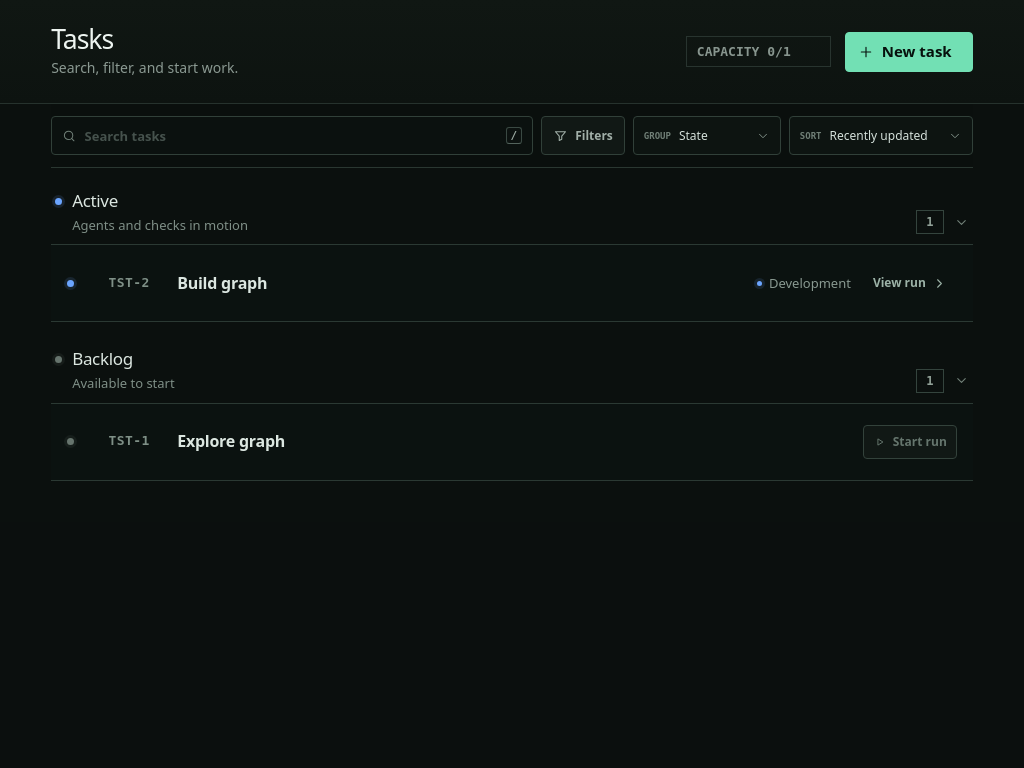
Test case: WorkBoard › starts as one open task list grouped by operational state
Expected: the heading "Tasks" is shown, x1=51 y1=21 x2=113 y2=57
Step 1. Click the button "Filters" → click(583, 136), box x1=541 y1=116 x2=625 y2=155
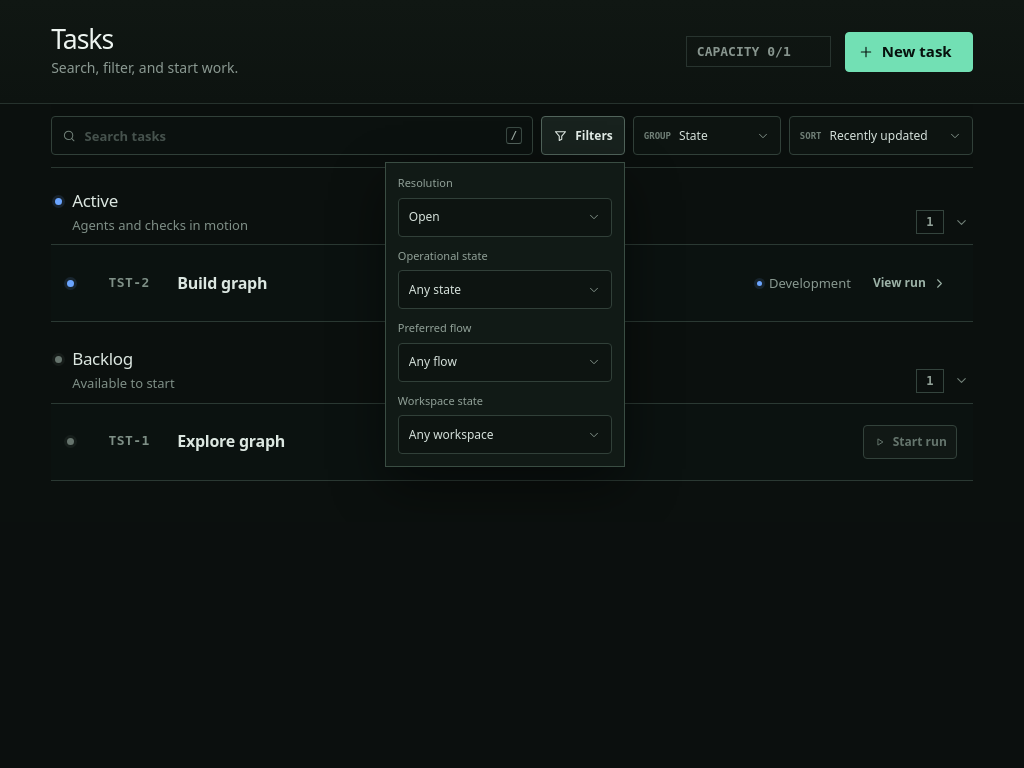
Expected: the heading "Active" is shown, x1=72 y1=190 x2=118 y2=212
Expected: the dropdown named "Resolution" reads "Open", x1=398 y1=198 x2=612 y2=236
